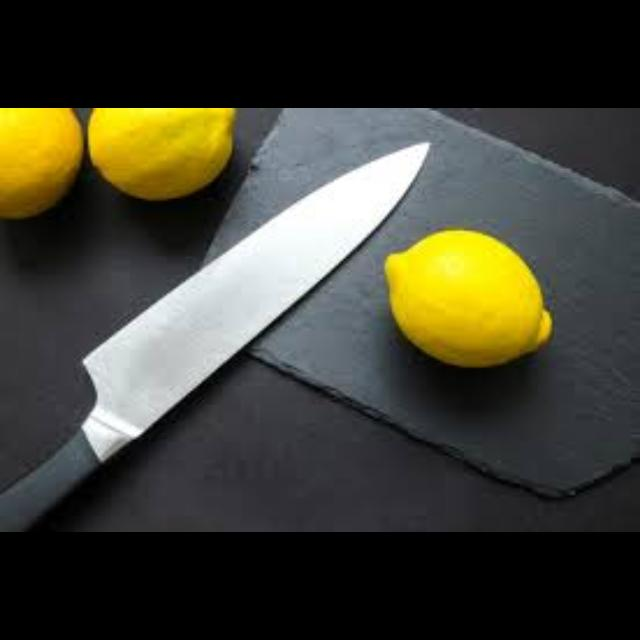Knife: (0, 138, 428, 530)
